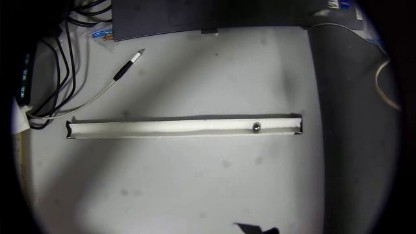gangzhu: (250, 121, 262, 133)
